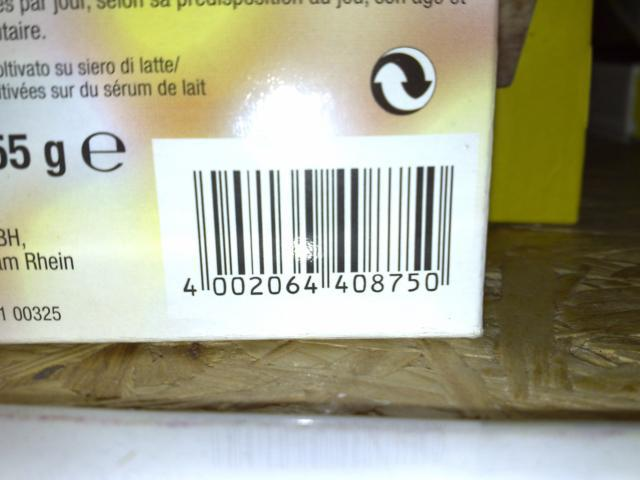Barkod: (192, 163, 455, 274)
